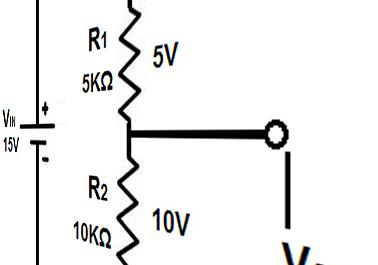resistor: (107, 6, 148, 116), (110, 157, 143, 258)
